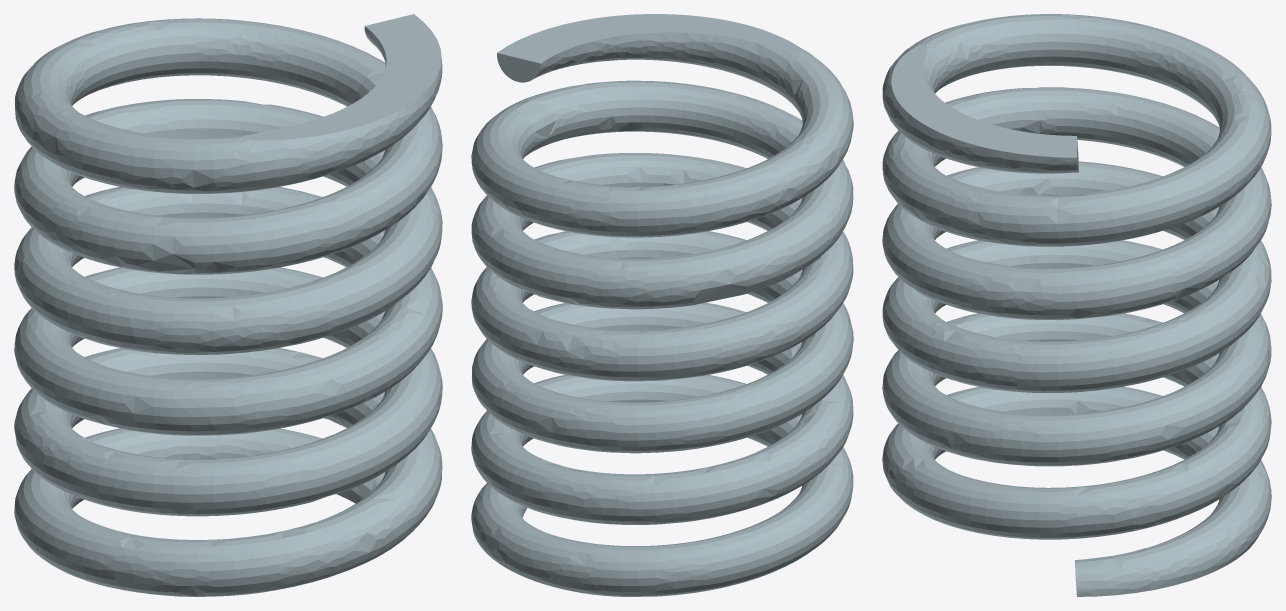
The model's file is exhaust-spring.glb.
3 views of the same model, side by side, from view 1: azimuth 30°, elevation 25°; view 2: azimuth 150°, elevation 25°; view 3: azimuth 270°, elevation 25° (orthographic). The views are drawn at different scales.
Parts seen in each view (by area): view 1: world; view 2: world; view 3: world.
Boxes of the visible parts, <box> form: world: <box>14,14,442,596</box>; world: <box>471,14,853,596</box>; world: <box>882,14,1271,596</box>.
Size of the model in its own units: 0.03 by 0.0373 by 0.03.
